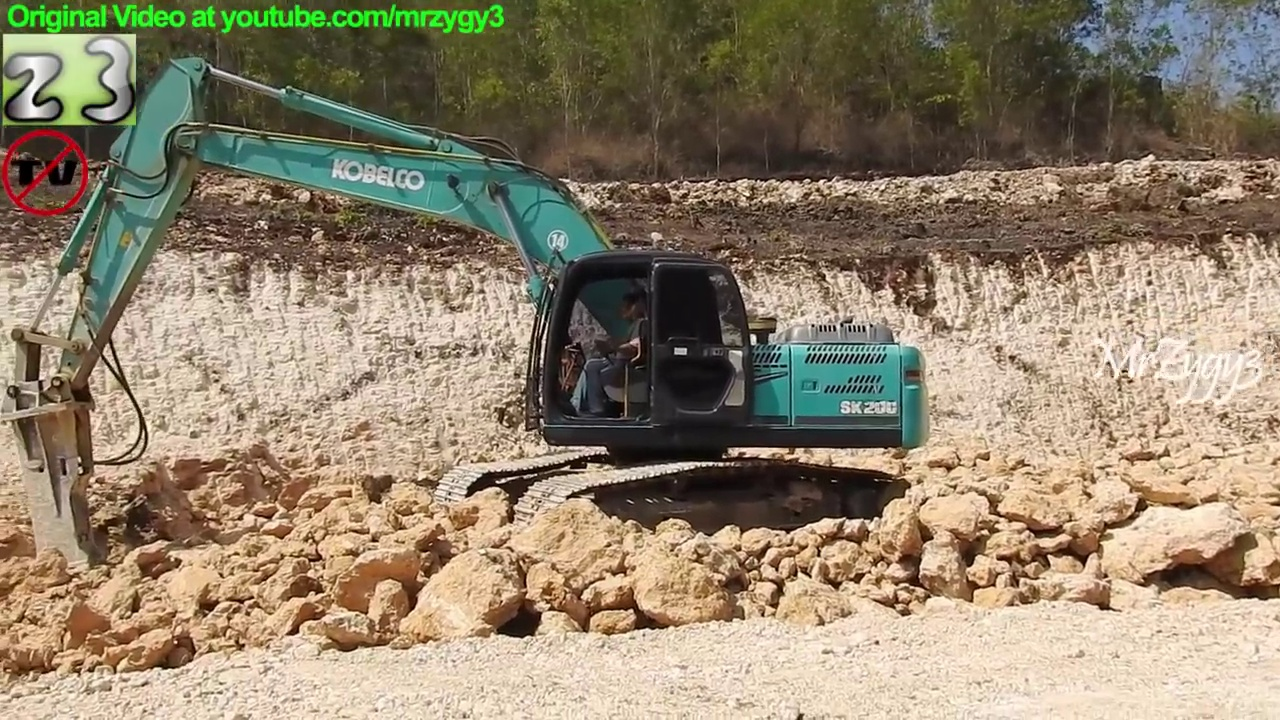excavator breaker: (6, 52, 937, 592)
